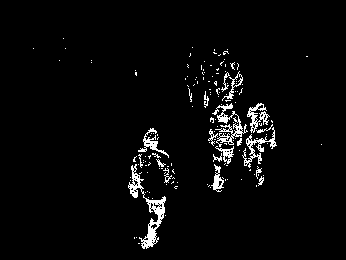person: (128, 124, 178, 250), (243, 97, 279, 190), (209, 94, 242, 195)
